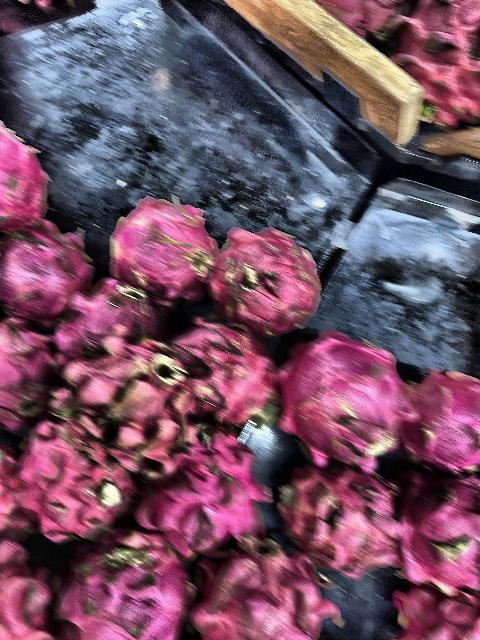buah-naga-matang: (276, 325, 403, 461), (72, 342, 198, 466), (52, 532, 194, 640), (188, 546, 332, 640), (278, 464, 396, 576), (141, 432, 259, 544), (200, 235, 328, 331), (19, 428, 129, 536), (386, 464, 480, 584), (168, 318, 272, 417), (108, 200, 216, 288), (386, 371, 480, 467), (0, 224, 90, 320), (48, 278, 154, 354), (0, 313, 64, 433), (1, 124, 54, 230)
